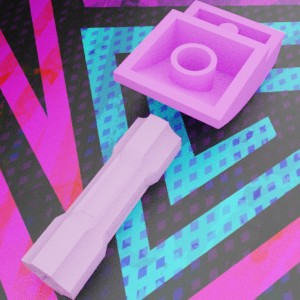lego: (21, 113, 181, 299), (113, 0, 285, 128)
